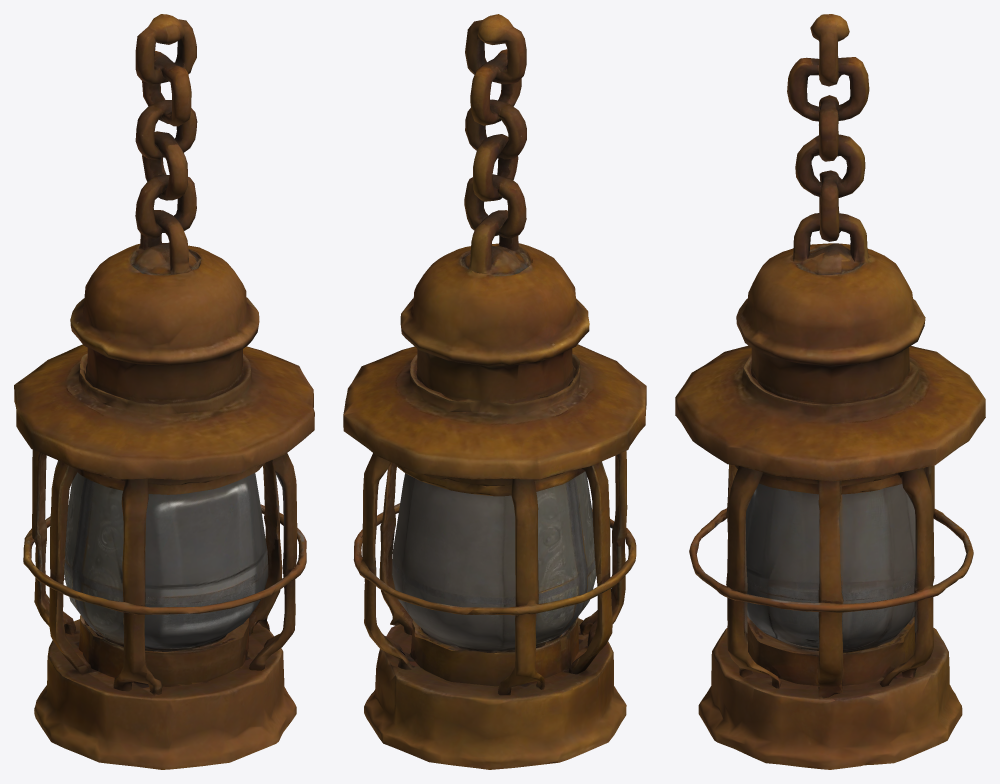
The model's file is obj_lantern.glb.
The picture shows the model from 3 angles, left to right: view 1: azimuth 30°, elevation 25°; view 2: azimuth 150°, elevation 25°; view 3: azimuth 270°, elevation 25°; orthographic projection.
Visible parts, largest first — view 1: Rustic lantern; view 2: Rustic lantern; view 3: Rustic lantern.
Part boxes in pixels (bbox=[...]): Rustic lantern: bbox=[14, 14, 314, 769]; Rustic lantern: bbox=[343, 14, 646, 769]; Rustic lantern: bbox=[675, 14, 985, 769].
Bounding box in the file's own units: 0.8004 × 2 × 0.804.
1 material, 1 textured.
